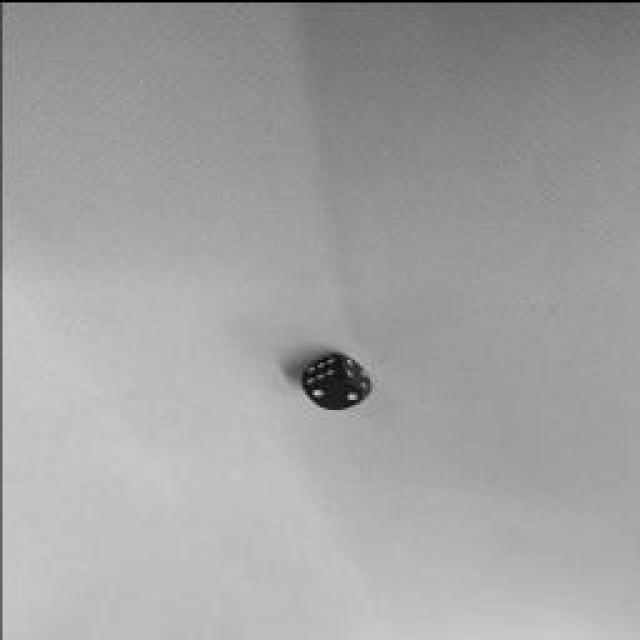dice_2: (306, 375, 364, 407)
